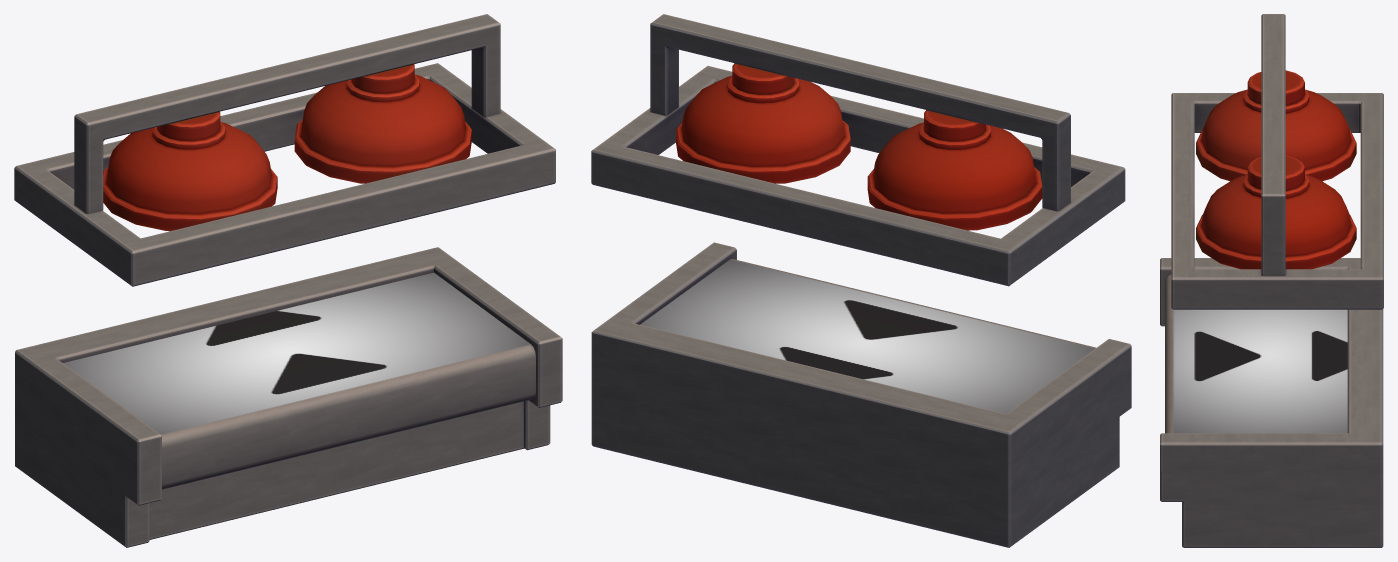
File: Complete.obj
3 renders of one model, left to right at view 1: azimuth 30°, elevation 25°; view 2: azimuth 150°, elevation 25°; view 3: azimuth 270°, elevation 25°, orthographic. The views are drawn at different scales.
Visible parts, largest first — view 1: Delivery_Counter.001; view 2: Delivery_Counter.001; view 3: Delivery_Counter.001.
Part boxes in pixels (bbox=[...]): Delivery_Counter.001: bbox=[14, 14, 562, 547]; Delivery_Counter.001: bbox=[591, 14, 1131, 547]; Delivery_Counter.001: bbox=[1160, 14, 1383, 547].
Size of the model in its own units: 4 by 3.52 by 2.03.
Materials: 1 (1 with a texture image).
